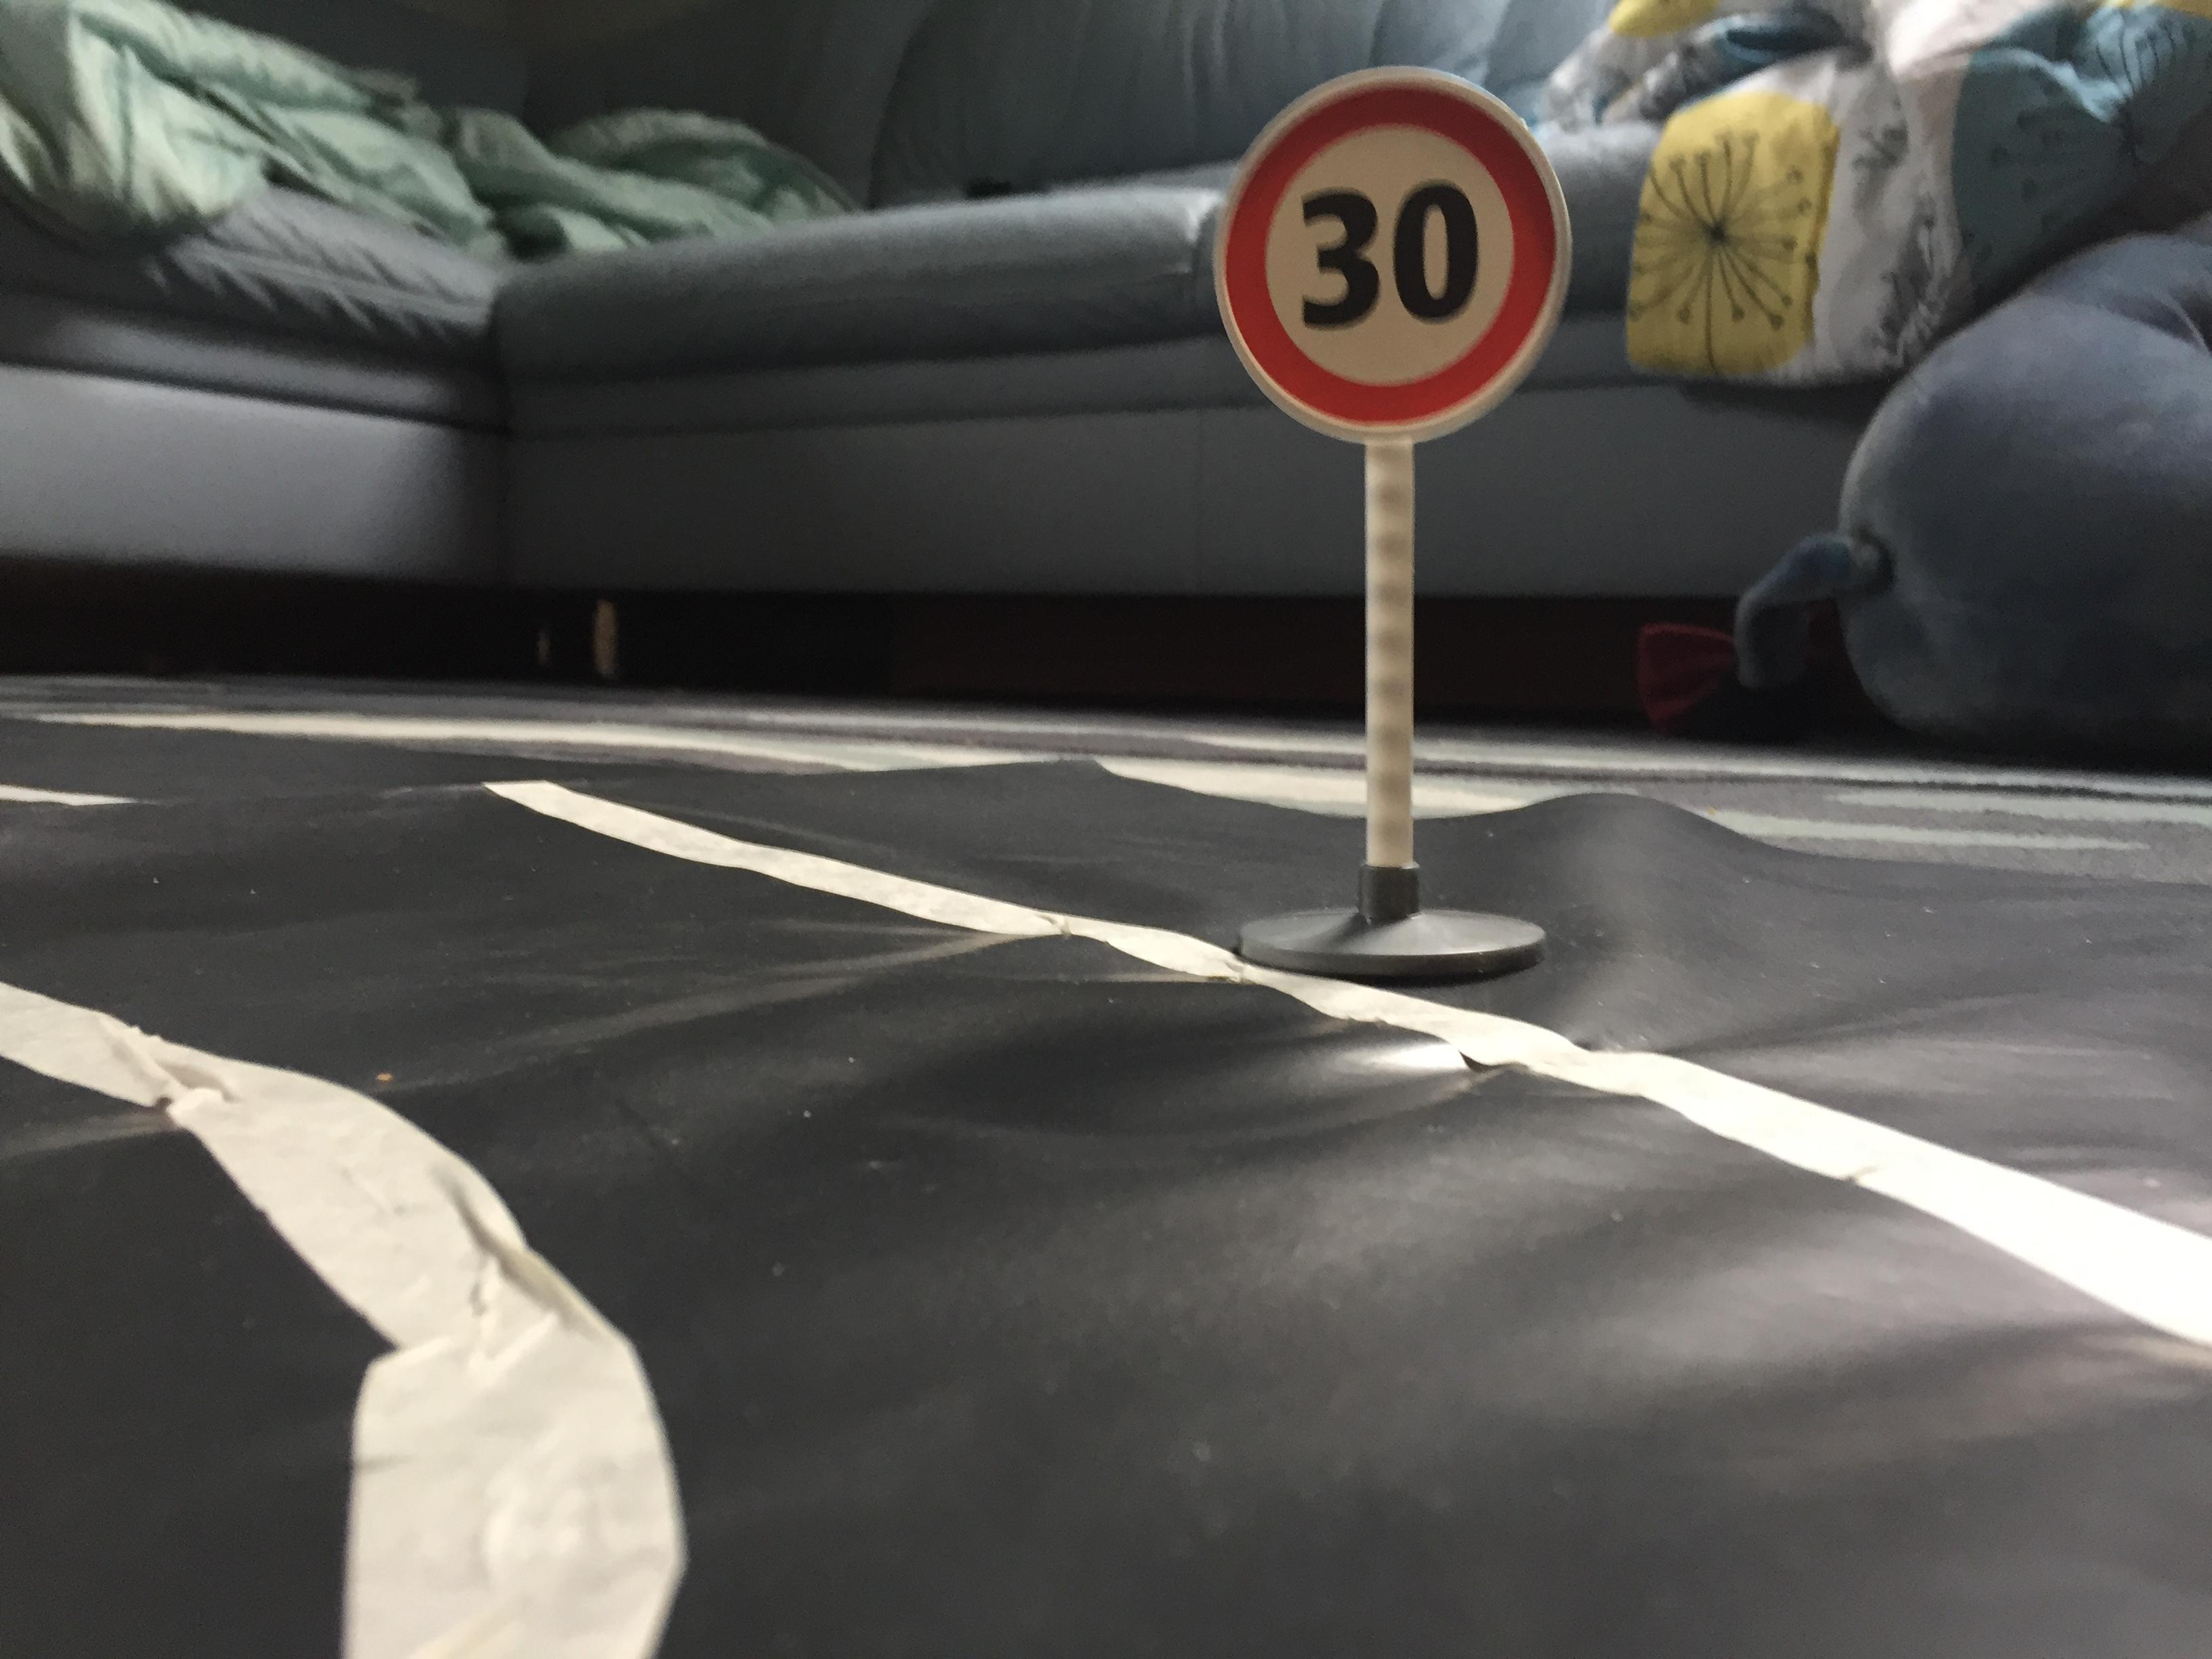speed: (1200, 58, 1590, 471)
